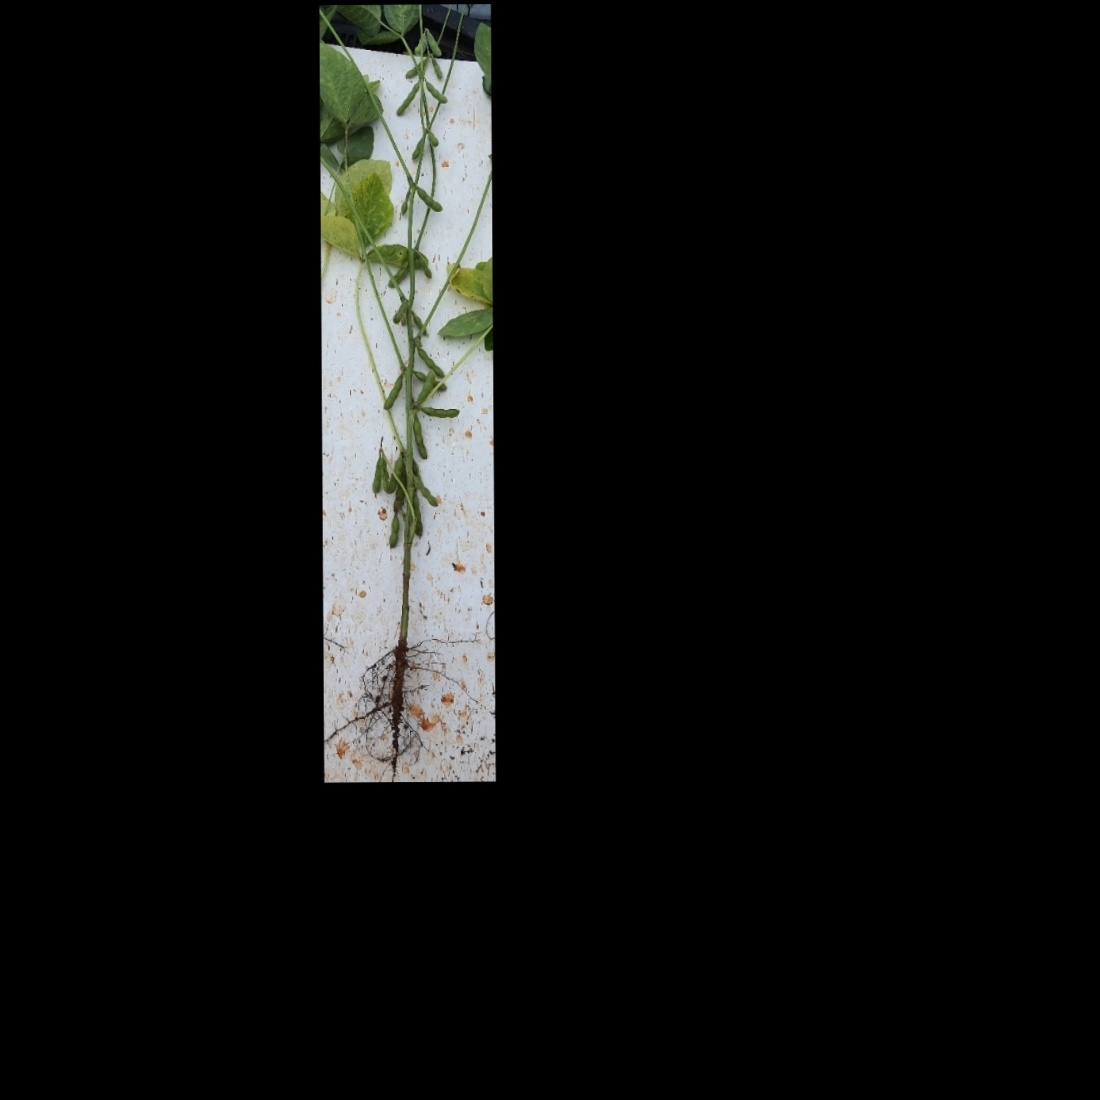pod: (393, 81, 421, 117), (417, 345, 447, 378), (381, 370, 405, 411), (410, 417, 430, 462), (411, 372, 435, 409), (413, 185, 444, 214), (412, 476, 439, 509), (386, 453, 406, 496), (386, 259, 412, 288), (417, 403, 461, 420), (411, 492, 424, 539), (424, 81, 449, 105), (369, 457, 384, 496), (394, 466, 410, 501), (387, 512, 400, 549), (412, 310, 429, 338), (403, 59, 428, 79), (427, 28, 443, 57), (416, 253, 432, 280), (379, 455, 390, 494), (399, 188, 412, 218), (410, 137, 425, 162), (430, 58, 444, 80), (426, 130, 440, 147)
soy: (335, 16, 489, 742)
